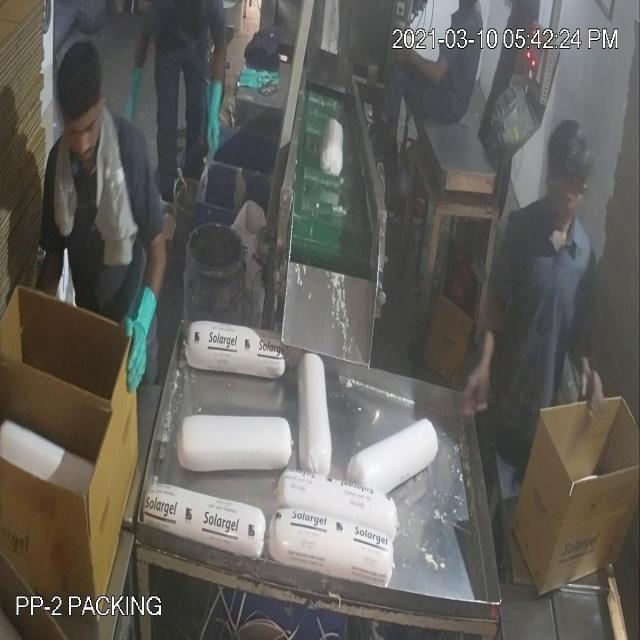gloves: (118, 270, 156, 406)
no-gloves: (458, 278, 516, 438), (568, 329, 614, 450), (392, 39, 462, 99)
